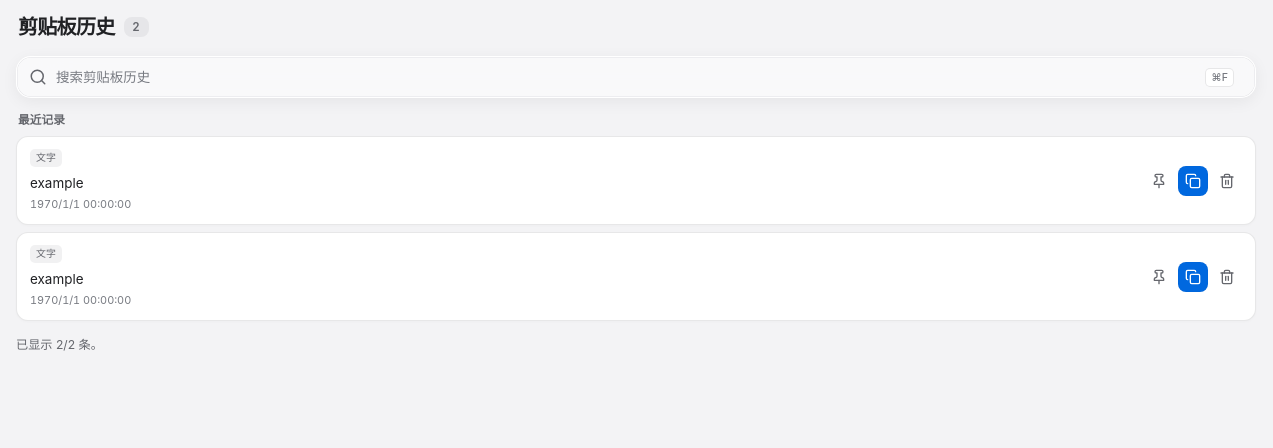
Test: HistoryView pin command wiring › shows a localized pin failure and retries the same command successfully
Click the 2nd button named "固定项目".
click(1159, 276)  # box x1=1144 y1=262 x2=1174 y2=292
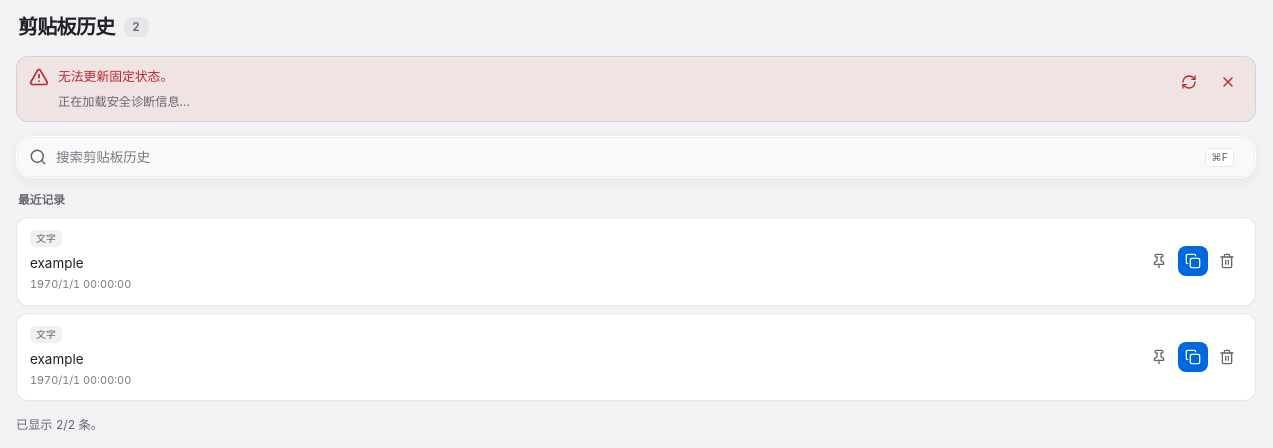
Check: the text "无法更新固定状态。" is shown, box x1=58 y1=69 x2=173 y2=84
Click the button named "重试".
click(1189, 82)  # box x1=1174 y1=67 x2=1204 y2=97
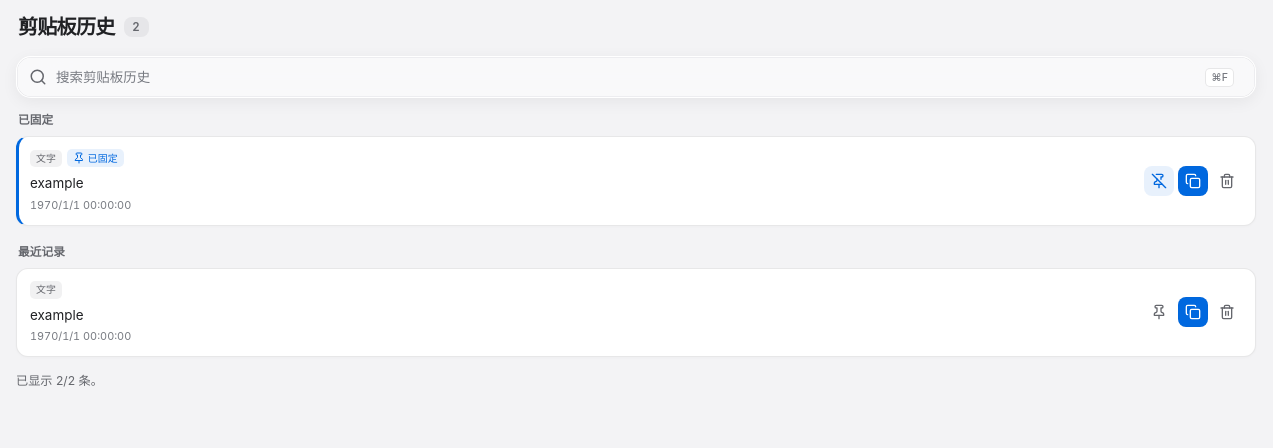
Check: the message with class "error-banner" is gone
